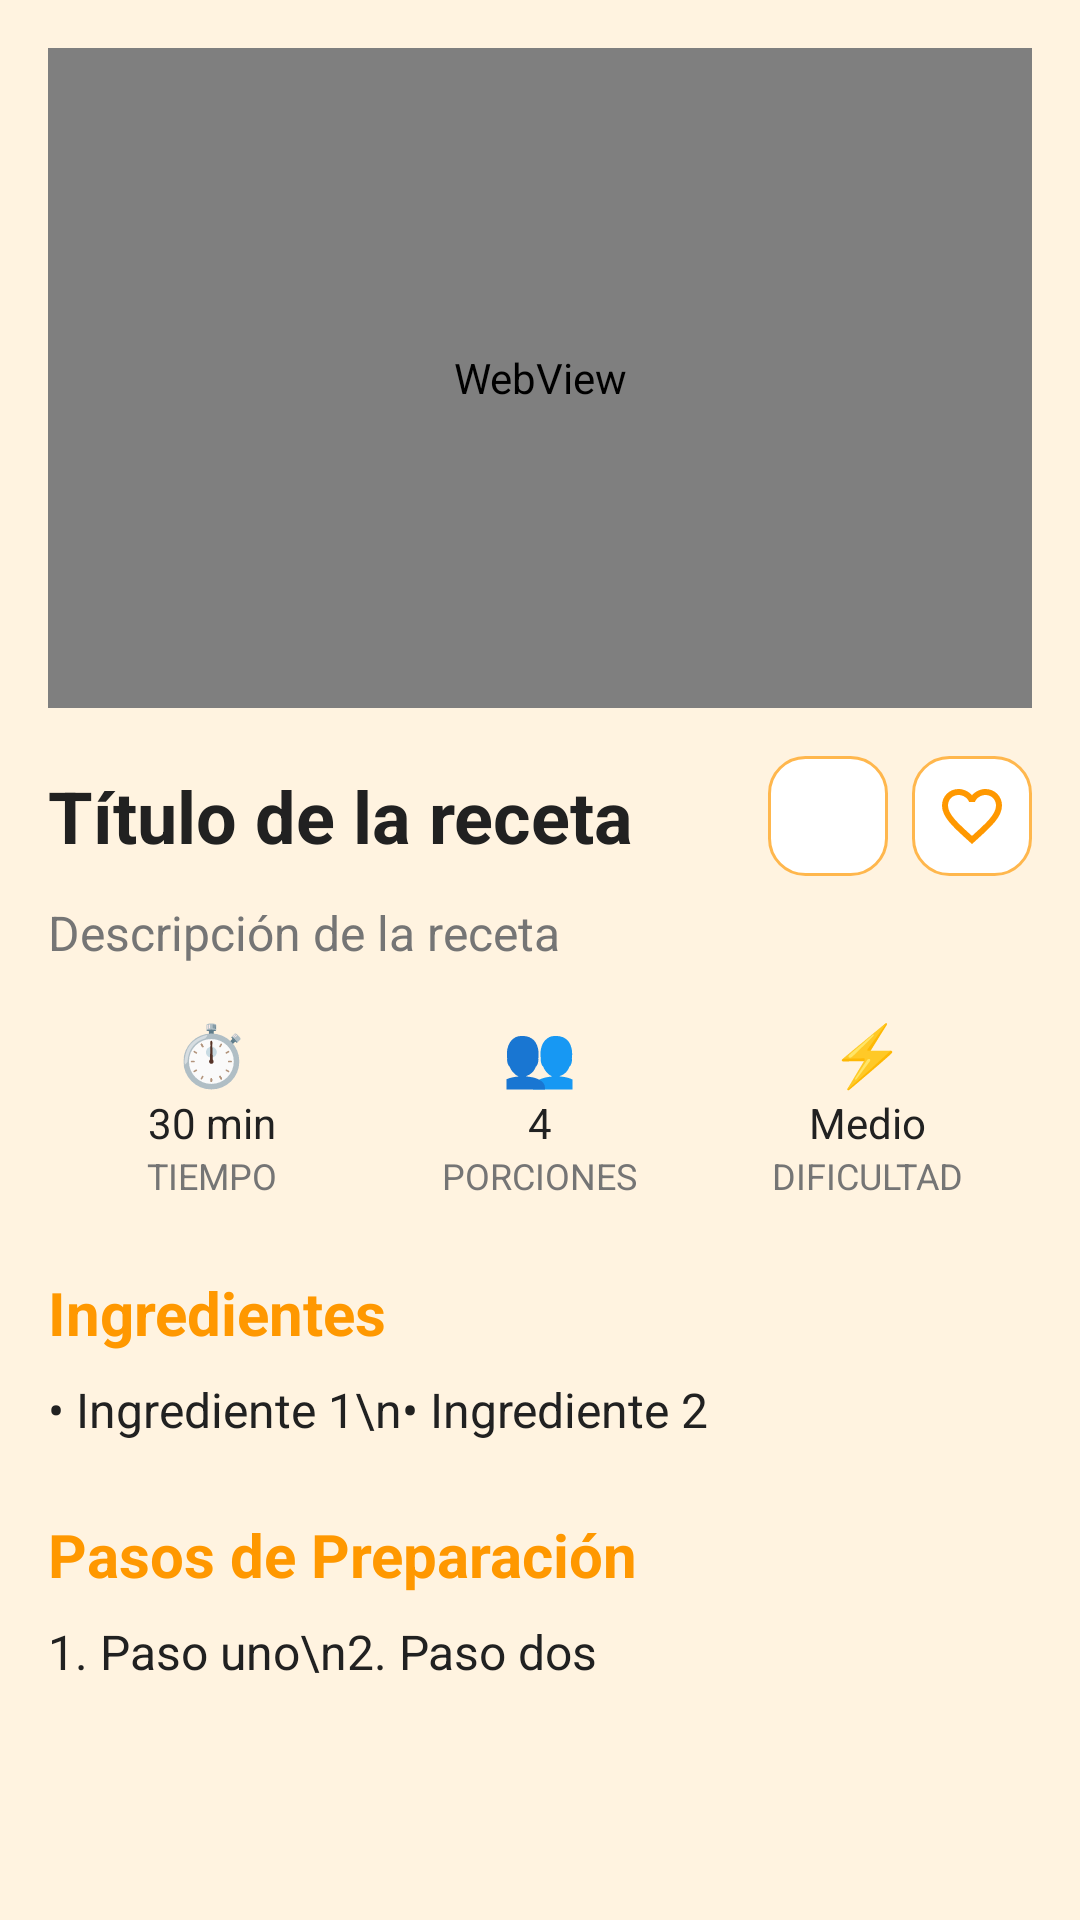

Named icons in this screenshot (1080w x 1920h) and their bounding boxes, (x1, y1, x2, y2):
Agregar a favoritos: (912, 756, 1032, 876)
